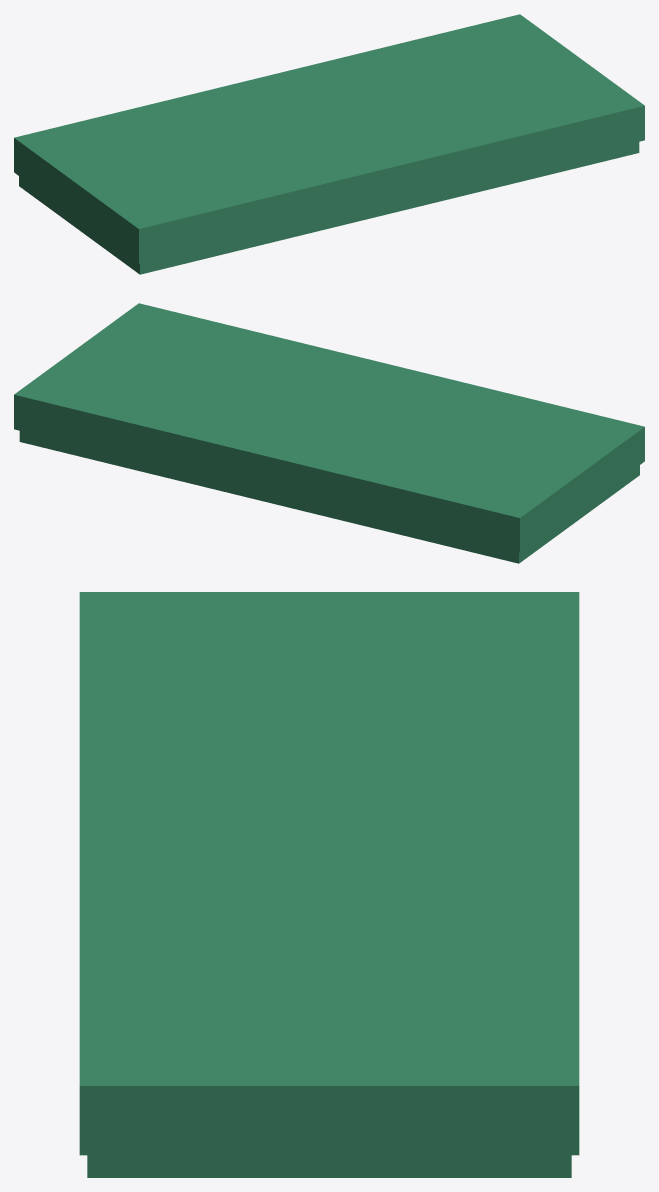
Rendered from 293_絵具12色セット閉.glb.
The picture shows the model from 3 angles, top to bottom: view 1: azimuth 30°, elevation 25°; view 2: azimuth 150°, elevation 25°; view 3: azimuth 270°, elevation 25°; orthographic projection. The views are drawn at different scales.
Parts seen in each view (by area): view 1: 蓋, 箱; view 2: 蓋, 箱; view 3: 蓋, 箱.
Boxes of the visible parts, <box> form: 蓋: <box>14,14,644,263</box>; 箱: <box>19,142,639,274</box>; 蓋: <box>14,303,644,552</box>; 箱: <box>19,431,639,563</box>; 蓋: <box>79,592,579,1155</box>; 箱: <box>87,1155,571,1177</box>.
Bounding box in the file's own units: 0.1528 × 0.0138 × 0.0653.
